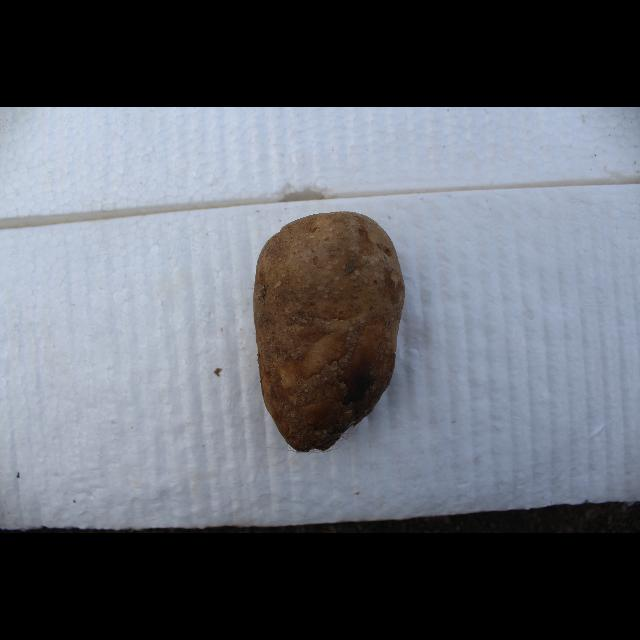Diseased-fungal potato: (247, 210, 406, 458)
